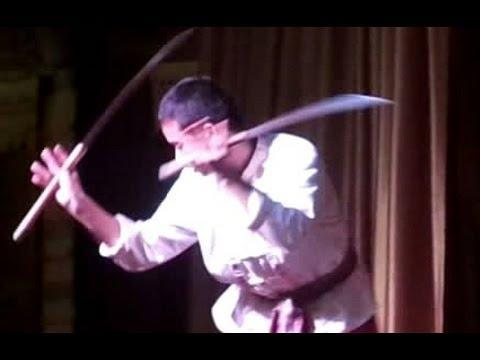espada: (6, 26, 201, 252), (160, 82, 402, 182)
